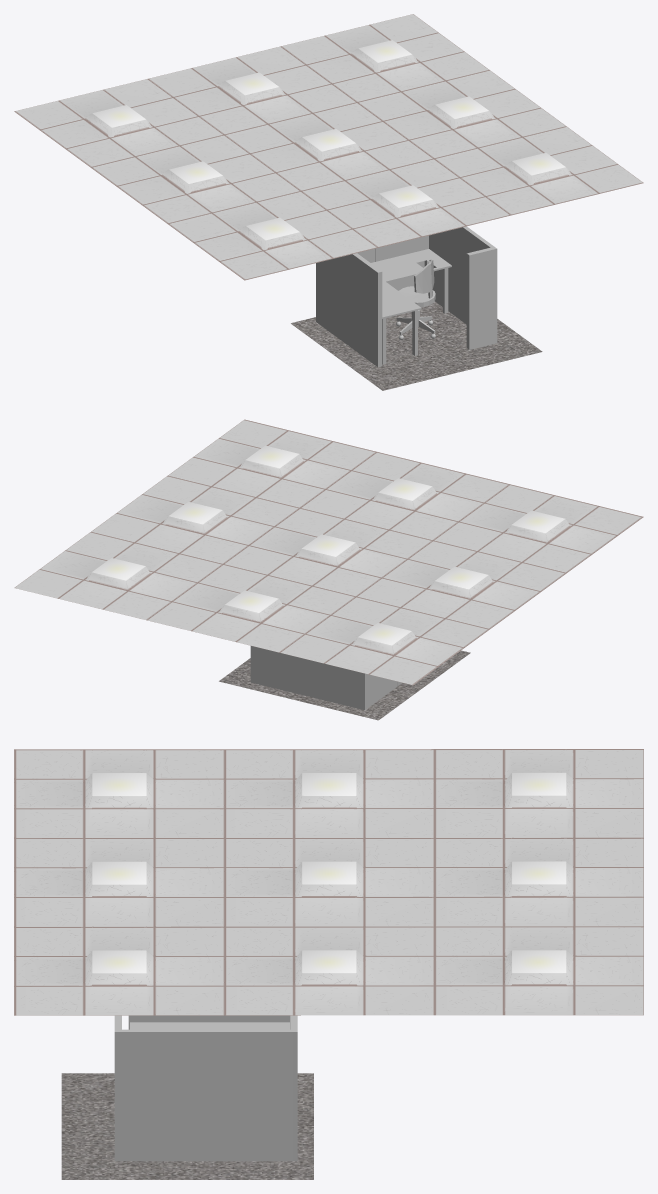
Rendered from mainCubical.fbx.
3 views of the same model, one above another, from view 1: azimuth 30°, elevation 25°; view 2: azimuth 150°, elevation 25°; view 3: azimuth 270°, elevation 25° (orthographic). The views are drawn at different scales.
Parts seen in each view (by area): view 1: pPlane3, pCube1, pPlane2, pCube2, pSphere5; view 2: pPlane3, pCube1, pPlane2; view 3: pPlane3, pCube1, pPlane2, pCube2.
Part boxes in pixels (x1=…): pPlane3: x1=14, y1=14, x2=643, y2=280; pCube1: x1=316, y1=226, x2=497, y2=367; pPlane2: x1=291, y1=301, x2=542, y2=390; pCube2: x1=371, y1=249, x2=451, y2=364; pSphere5: x1=396, y1=259, x2=435, y2=340; pPlane3: x1=14, y1=419, x2=643, y2=685; pCube1: x1=250, y1=646, x2=402, y2=710; pPlane2: x1=219, y1=650, x2=470, y2=720; pPlane3: x1=14, y1=749, x2=643, y2=1015; pCube1: x1=114, y1=1015, x2=297, y2=1161; pPlane2: x1=61, y1=1073, x2=313, y2=1179; pCube2: x1=130, y1=1022, x2=289, y2=1029.
Size of the model in its own units: 16.03 by 6.45 by 16.03.
